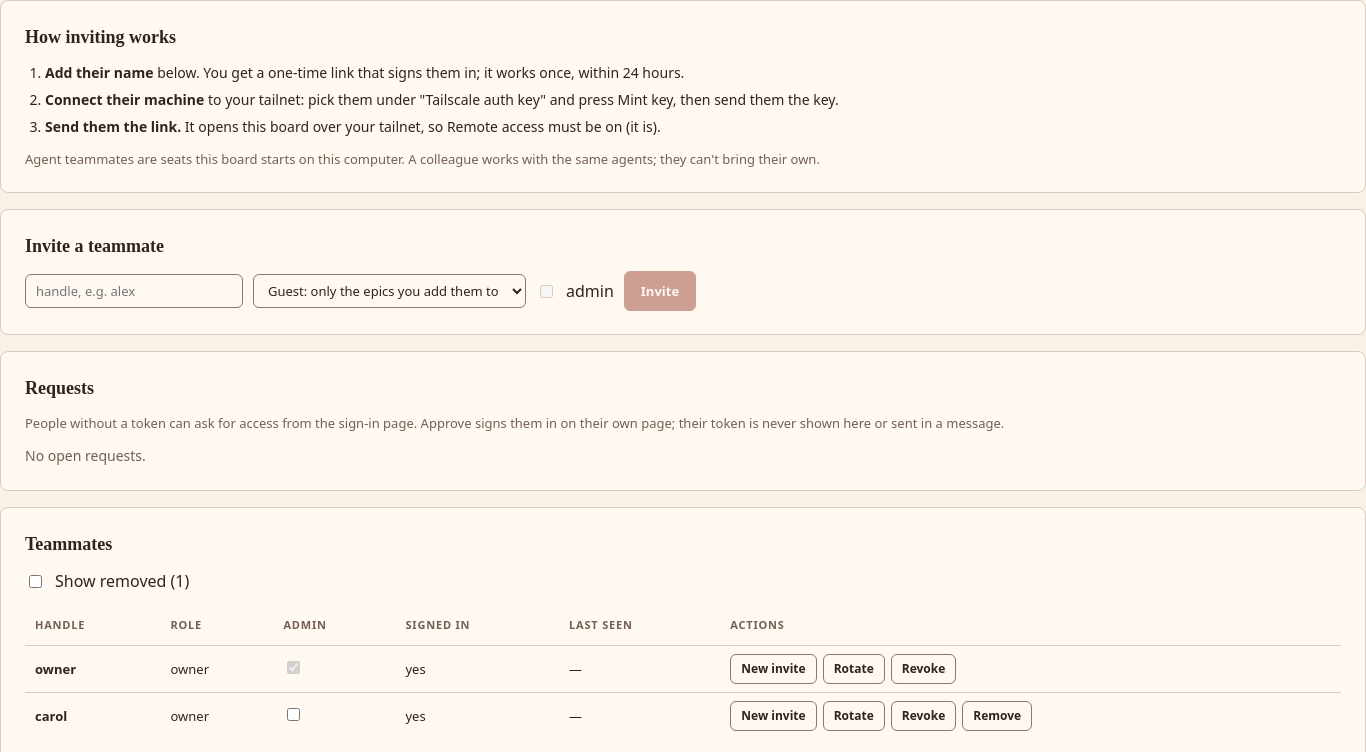
Admin → Teammates: requests and Remove › hides removed teammates until asked, and Remove needs a confirm step
Expected: the row with test id "teammate-carol" is shown, [25,692,1341,739]
Click the checkbox with test id "teammates-show-removed" at (36, 581), box [29,574,42,588]
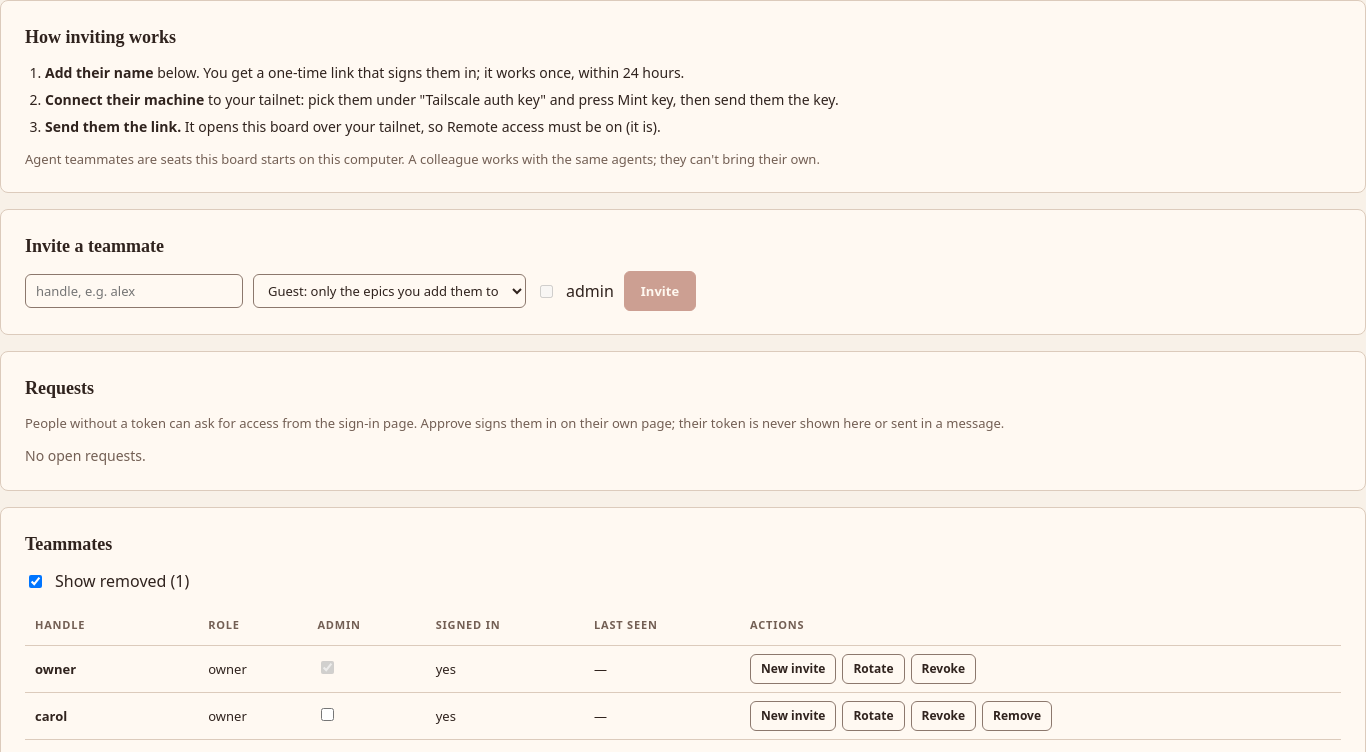
Click the button with test id "teammate-carol-remove" at (1017, 716), box [982,701,1052,731]
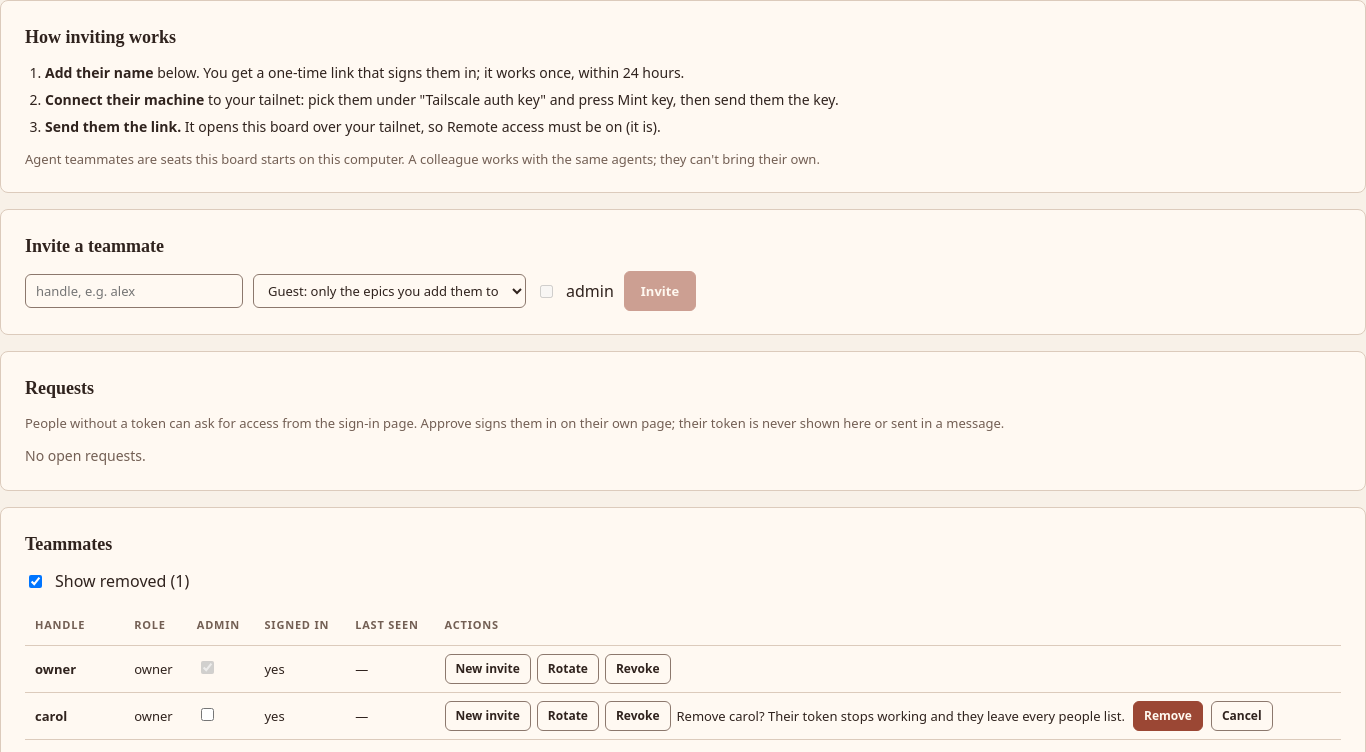
Click the button with test id "teammate-carol-remove-no" at (1242, 716), box [1211,701,1273,731]
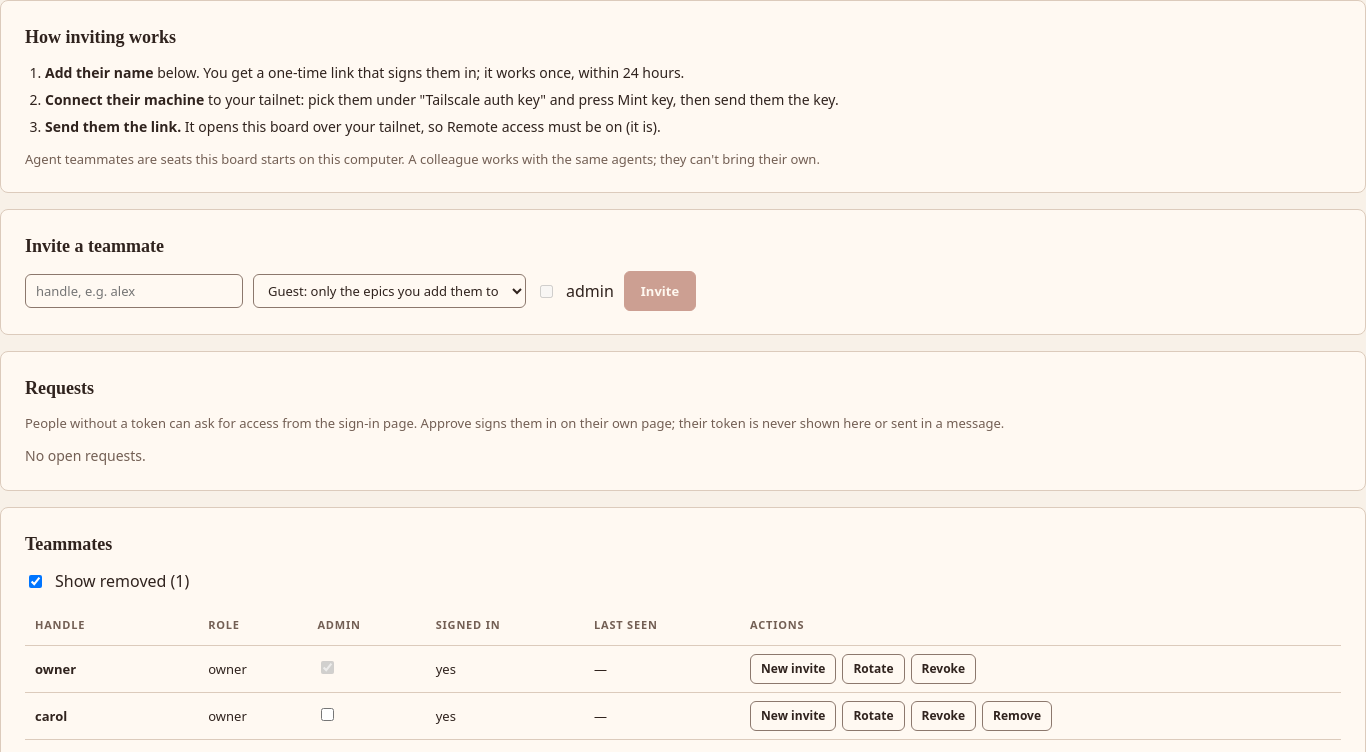
Now the element with test id "teammate-carol-remove-confirm" is gone
Click the button with test id "teammate-carol-remove" at (1017, 716), box [982,701,1052,731]
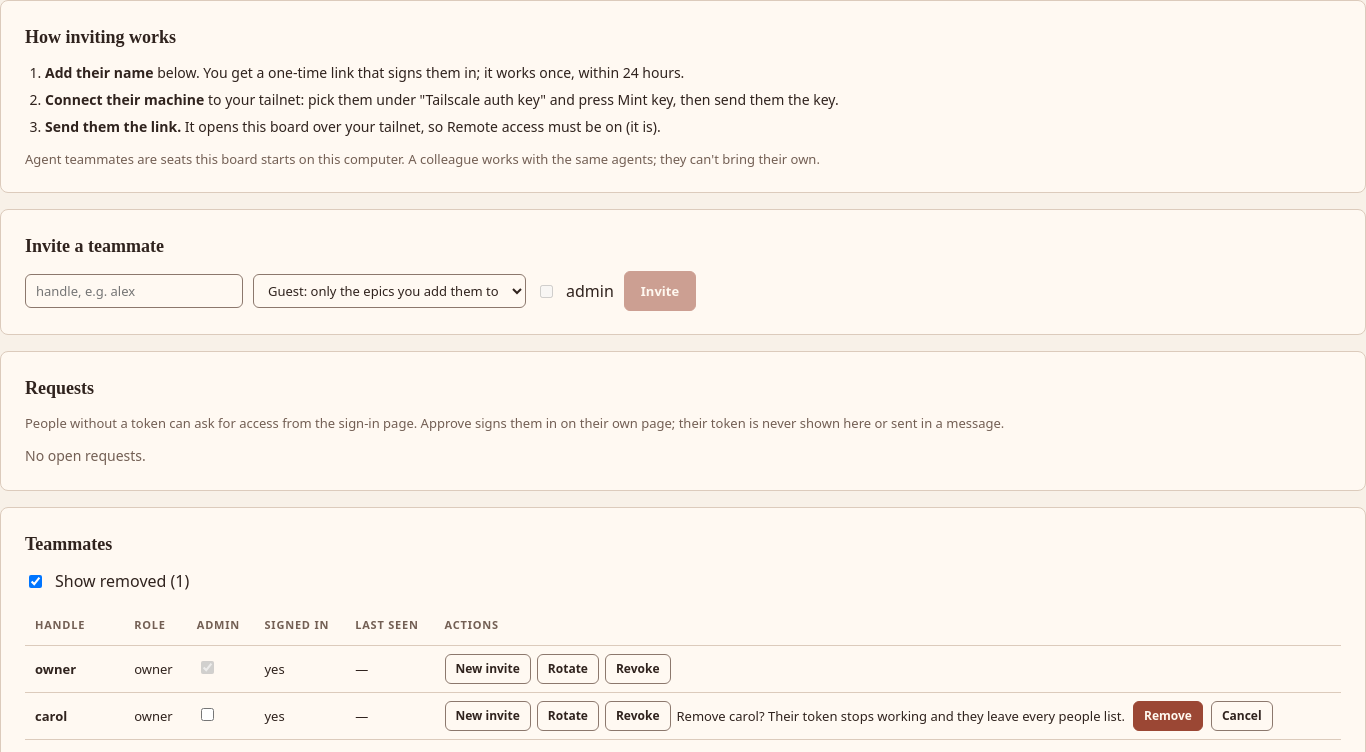
Click the button with test id "teammate-carol-remove-yes" at (1168, 716), box [1133,701,1203,731]
(page scrolled)
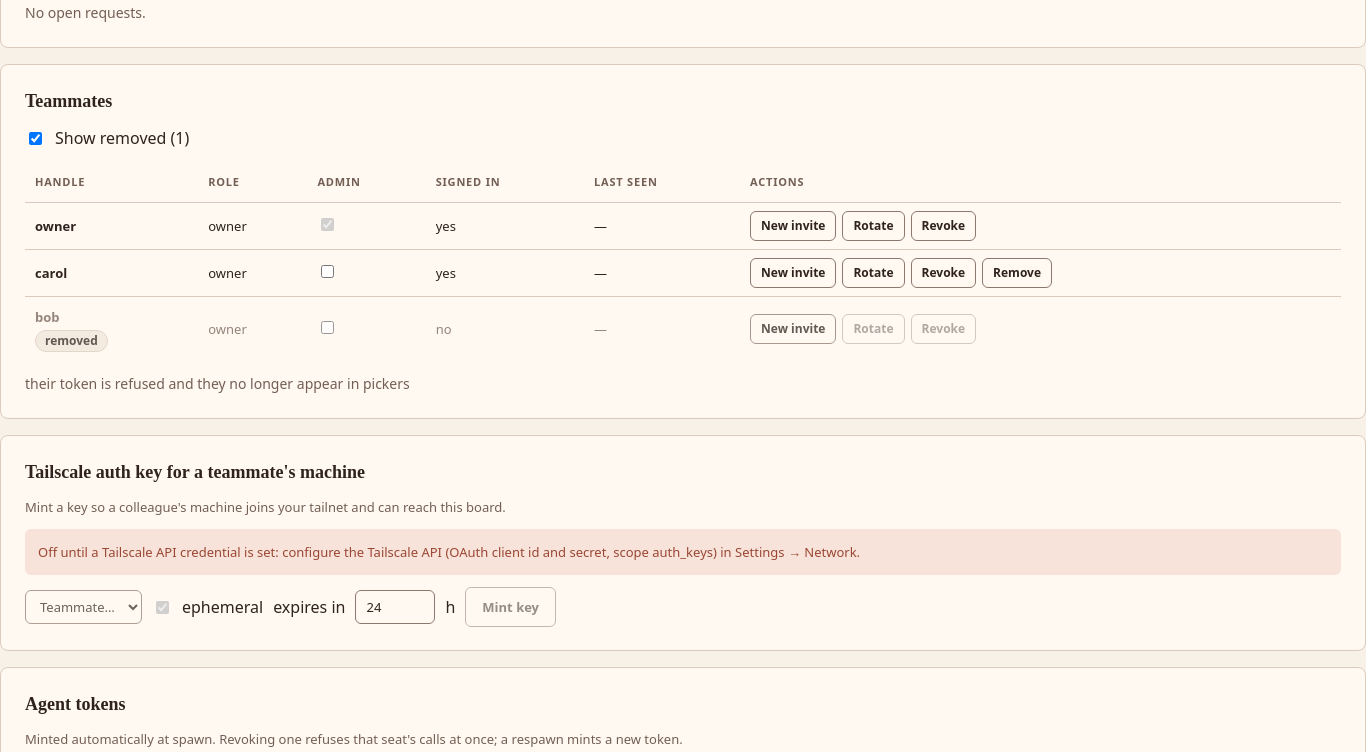
Now the message with test id "teammate-action-done" shows "no longer appear in pickers", box [25,374,410,393]
